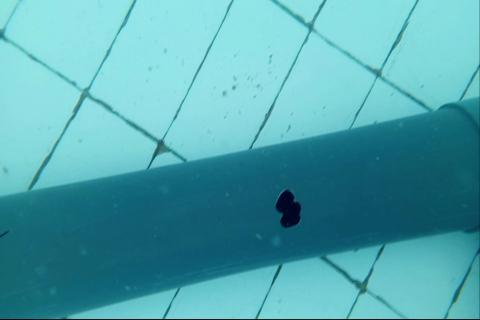kebocoran: (274, 187, 303, 230)
keretakan: (0, 229, 10, 238)
